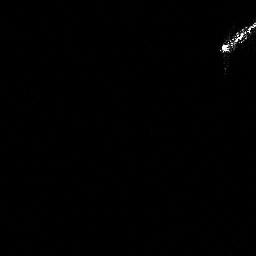ship: (215, 18, 256, 58)
